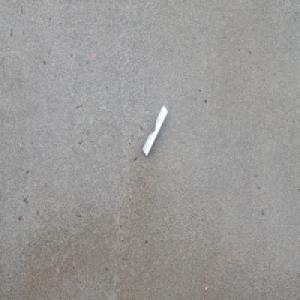ClampPart: (142, 104, 168, 157)
